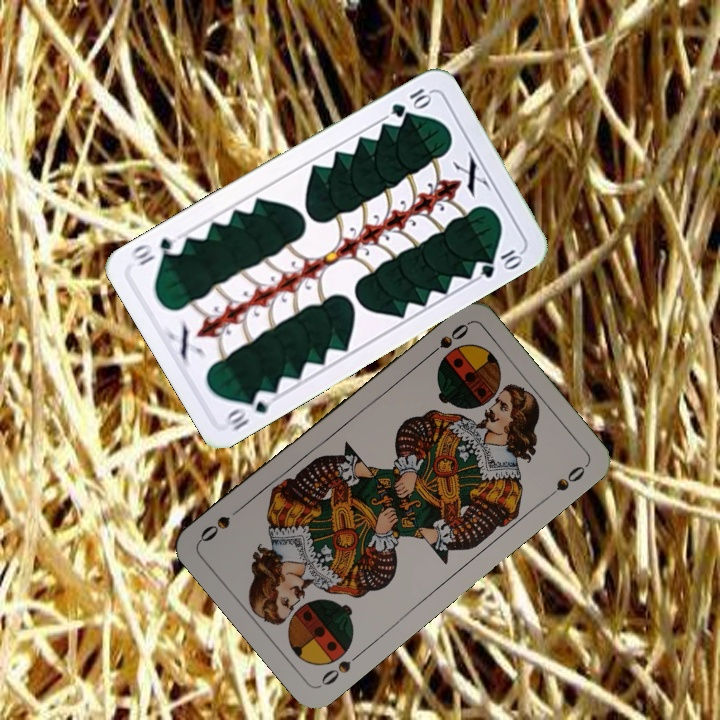G10: (222, 385, 278, 434), (387, 84, 436, 120)
SO: (421, 319, 472, 362), (316, 647, 366, 689)
